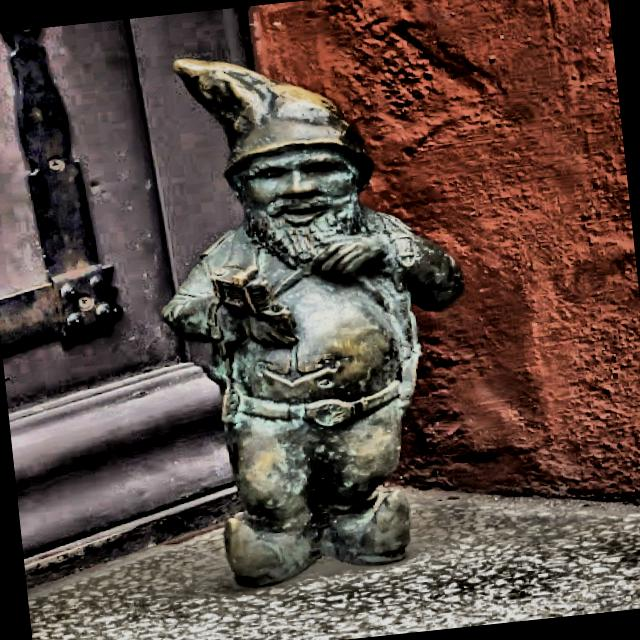TatuazystaKonstanty: (165, 60, 462, 585)
